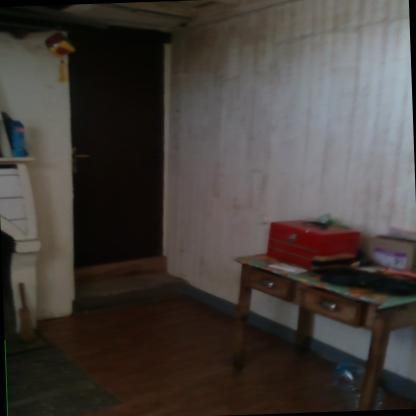closed: (57, 13, 178, 277)
